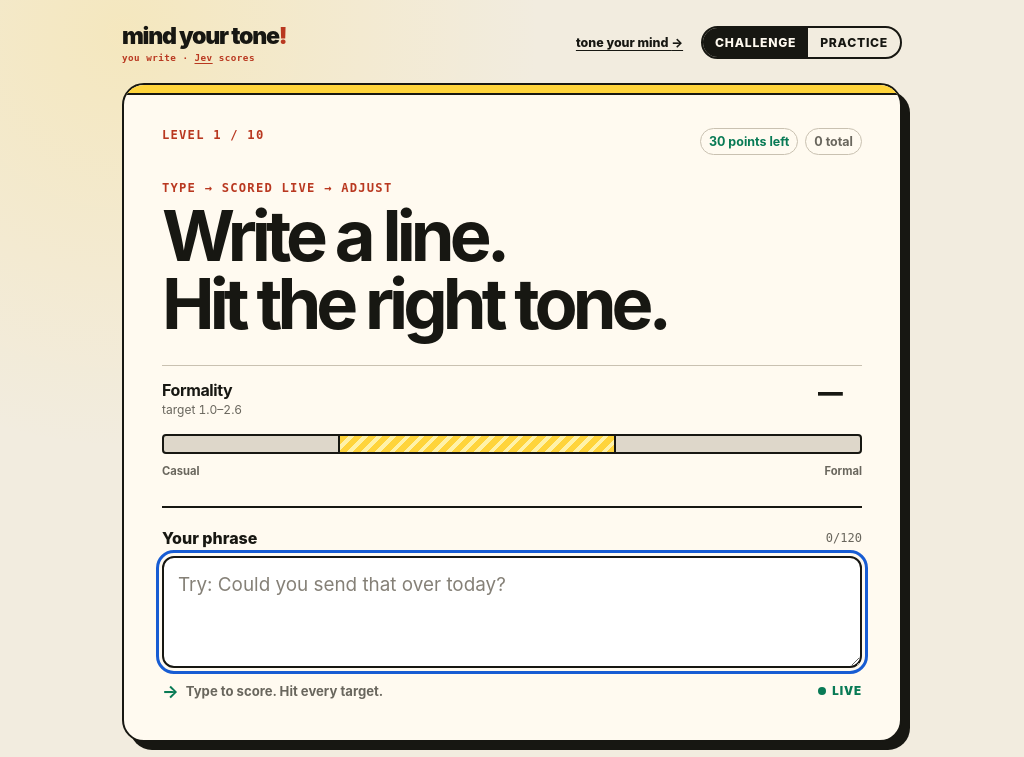
Test: live challenge play › clears an in-flight evaluation when the textarea is emptied
This screenshot has width=1024, height=757.
Type "First draft" into the text box labelled "Your phrase" at x=512, y=612, box x1=162 y1=556 x2=862 y2=668
Wait 650 ms
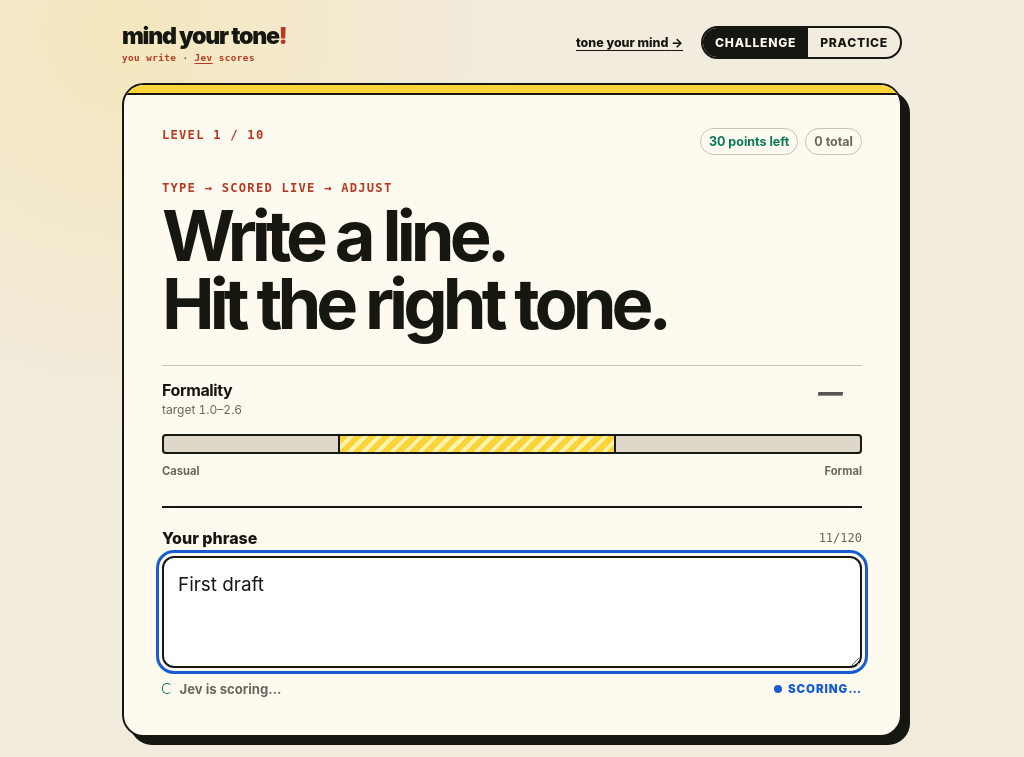
Clear the text box labelled "Your phrase" at x=512, y=612, box x1=162 y1=556 x2=862 y2=668
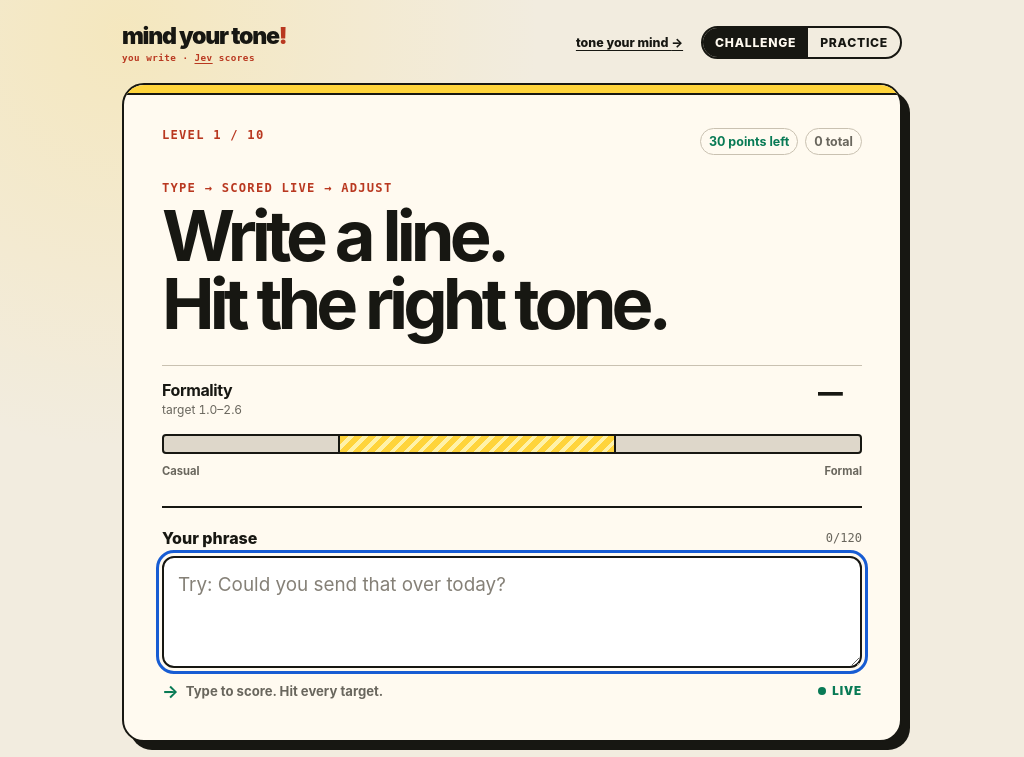
Expected: the text "live" is shown, x1=818 y1=684 x2=862 y2=698
Expected: the text "Type to score. Hit every target." is shown, x1=186 y1=683 x2=383 y2=699
